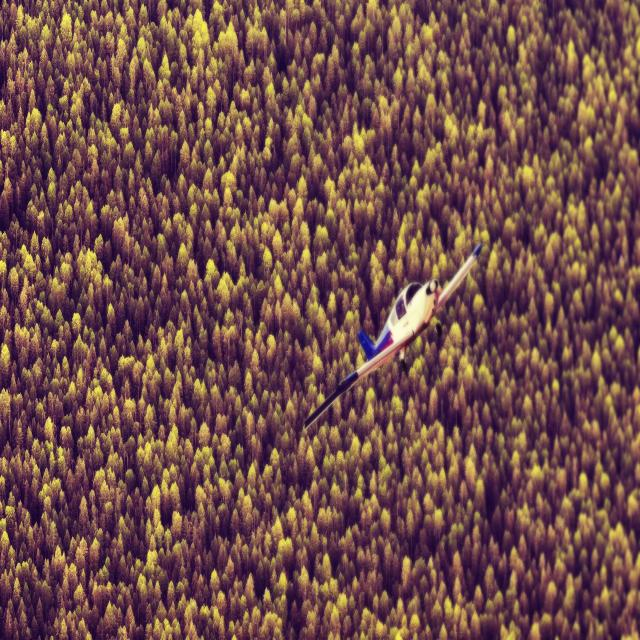airplane: (302, 240, 482, 432)
